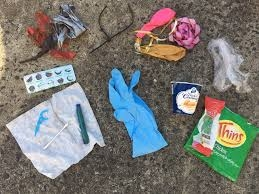paper: (6, 82, 110, 182), (167, 77, 204, 118)
plastic: (180, 94, 258, 185), (102, 63, 170, 162), (204, 36, 257, 99), (21, 61, 76, 96)
